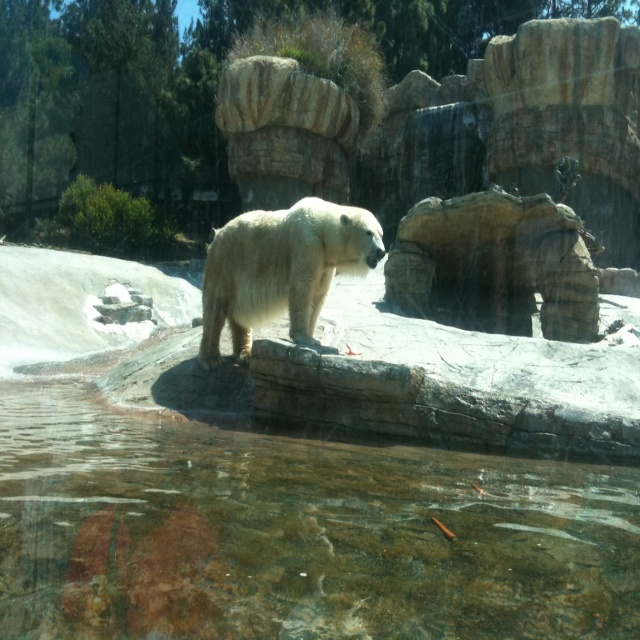Polar bear: (196, 196, 387, 374)
